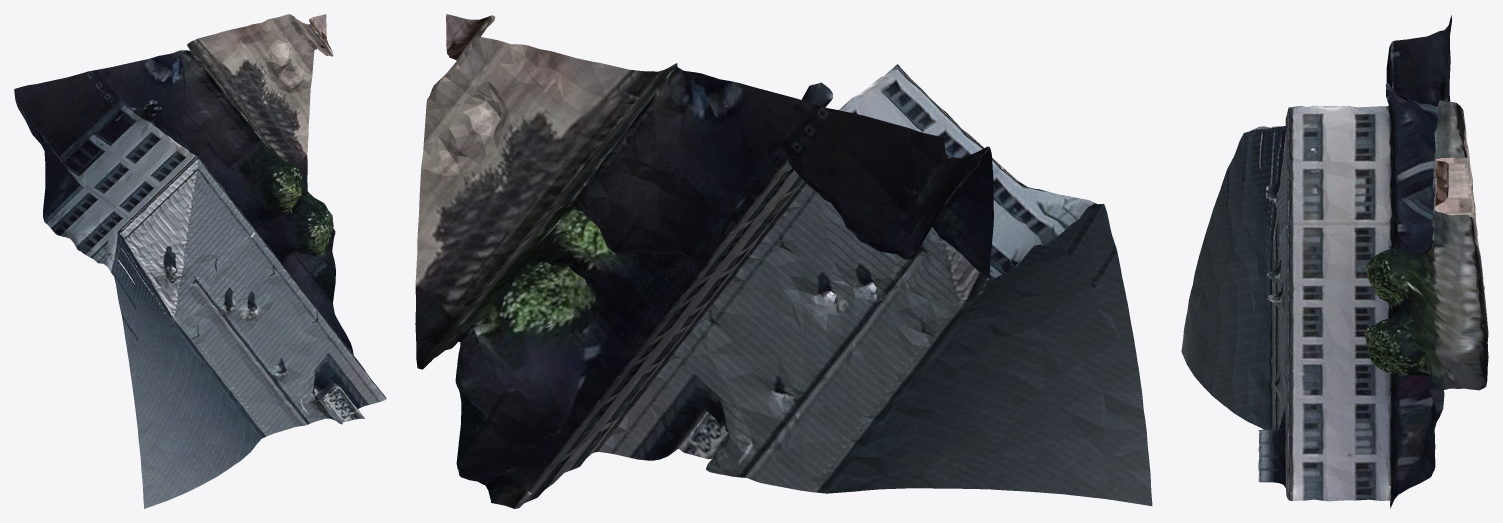
File: Tile_+031_+021_L21_00010000.obj
The picture shows the model from 3 angles, left to right: view 1: azimuth 30°, elevation 25°; view 2: azimuth 150°, elevation 25°; view 3: azimuth 270°, elevation 25°; orthographic projection. The views are drawn at different scales.
Size of the model in its own units: 31.38 by 31.31 by 25.83.
Materials: 1 (1 with a texture image).
